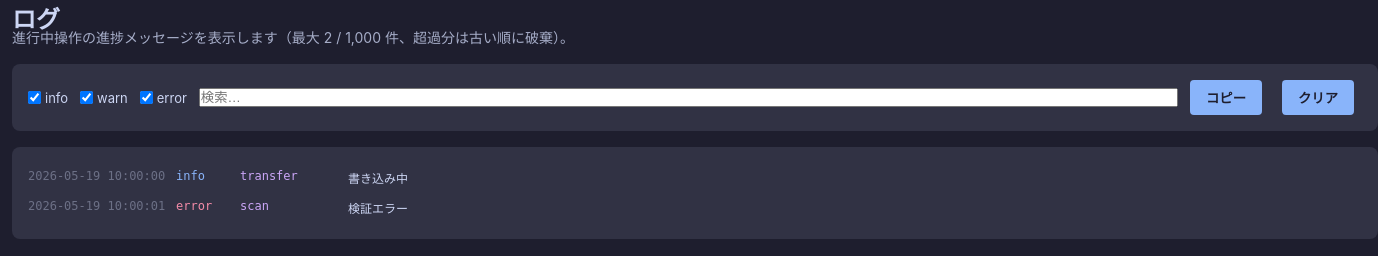
Test: LogsPage › 空結果メッセージ
The image size is (1378, 256).
Type "存在しない語" into the search field named "ログ検索".
click(688, 98); type("存在しない語")  # box left=199, top=88, right=1178, bottom=107
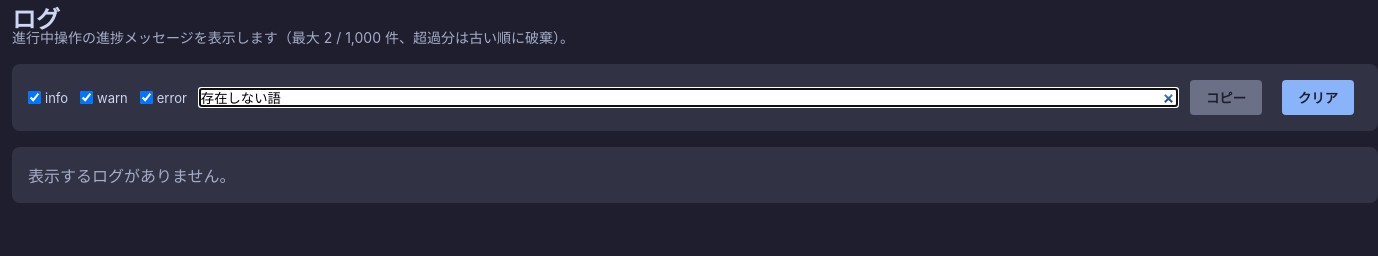
Check: the text "表示するログがありません。" is shown, box left=28, top=166, right=236, bottom=186
